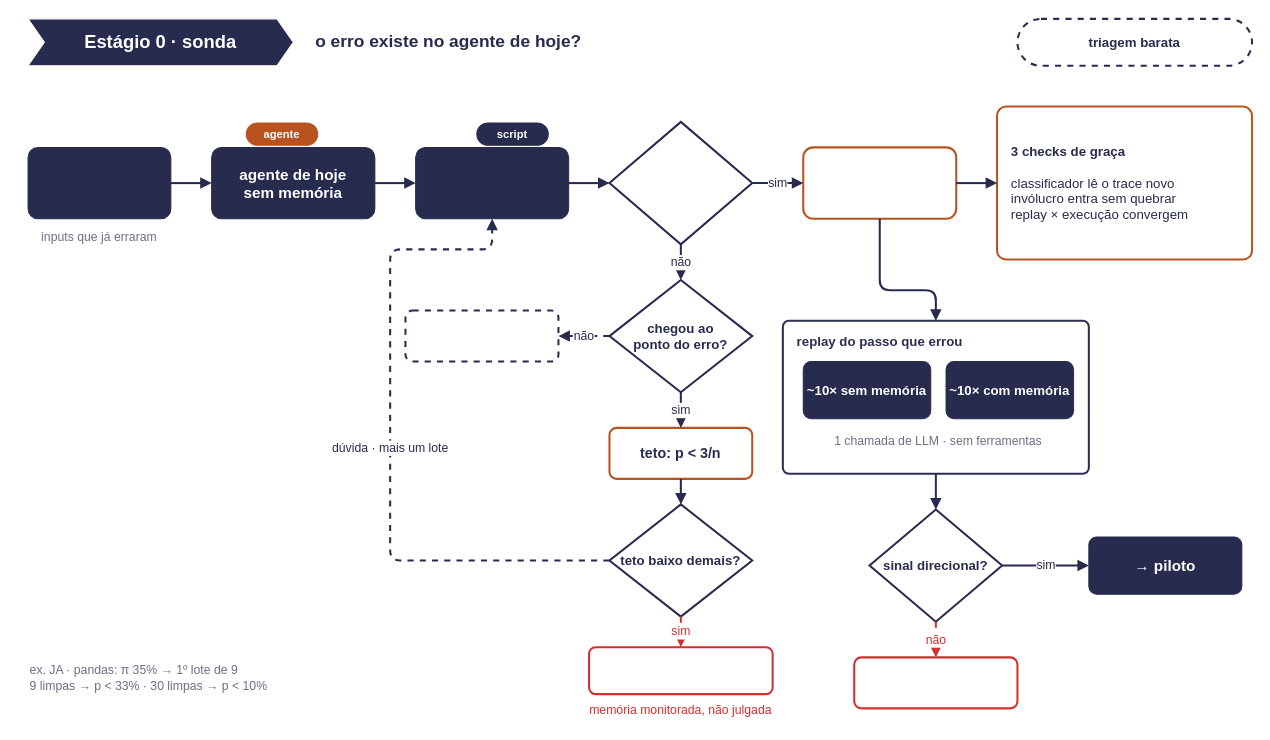
Image size: 1270x740. Some labels were removed from this diagram. The centre of each missing label's shape, as x and y in pixels:
"apareceu o erro?" belongs at (x=680, y=182).
"gatilho" belongs at (x=99, y=182).
"lote de n ≈ 3/p 1º lote: p ← π histórico" belongs at (x=492, y=182).
"não testável hoje" belongs at (x=680, y=670).
"p · ordem de grandeza" belongs at (x=879, y=182).
"par adiado" belongs at (x=935, y=682).
"refazer a sonda" belongs at (x=481, y=335).
